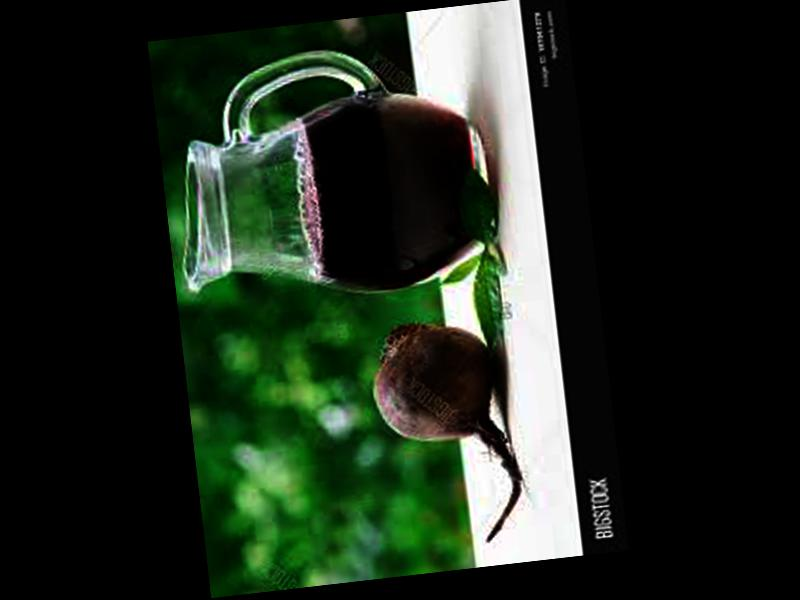Beet: (368, 314, 529, 550)
